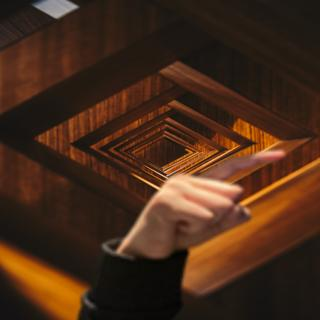WHY: (113, 141, 291, 259)
